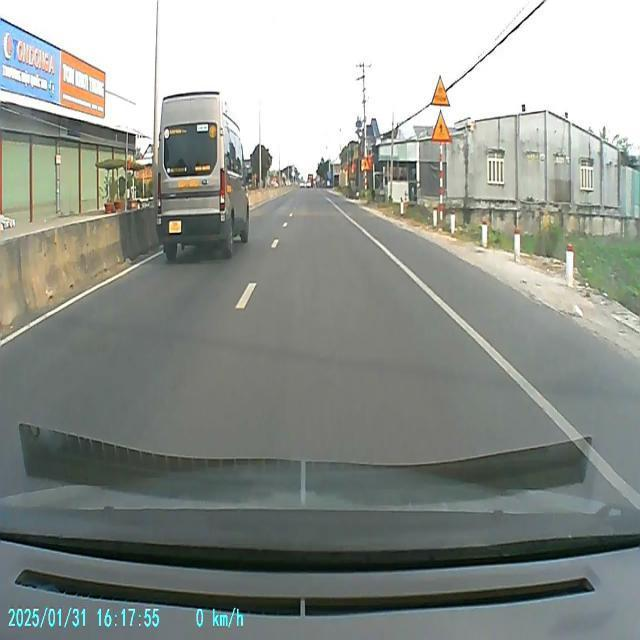207-giao-nhau-voi-duong-khong-uu-tien: (362, 157, 370, 170)
224-duong-nguoi-di-bo-cat-ngang: (430, 109, 450, 143)
245-di-cham: (430, 72, 450, 108)
